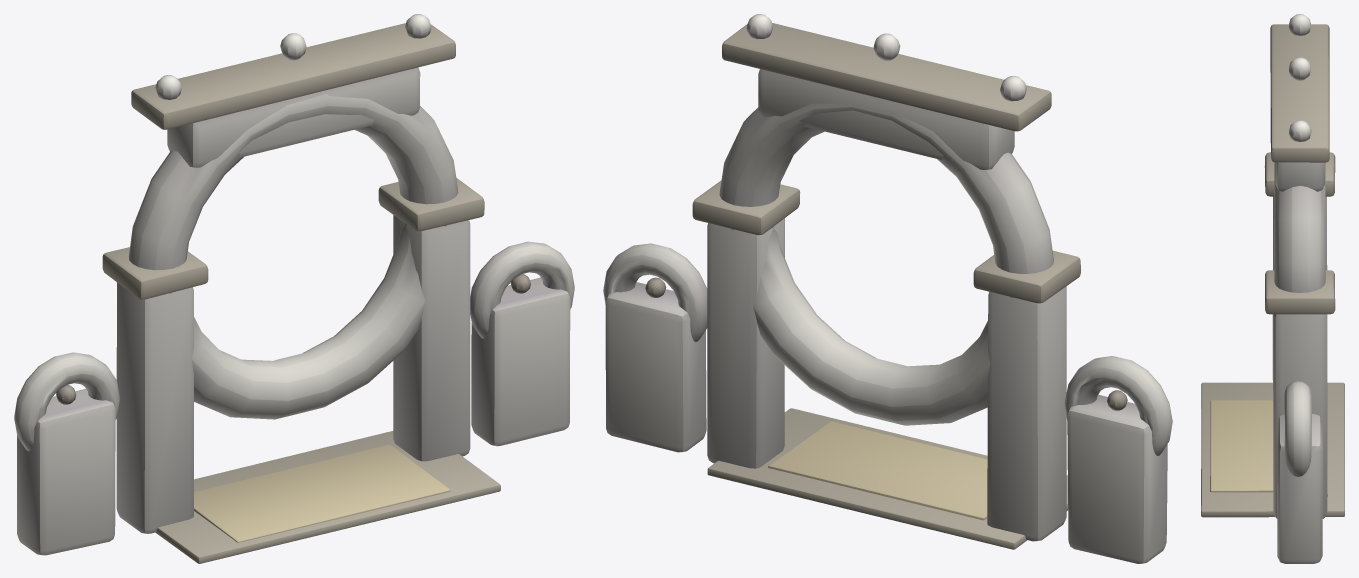
The picture shows the model from 3 angles, left to right: view 1: azimuth 30°, elevation 25°; view 2: azimuth 150°, elevation 25°; view 3: azimuth 270°, elevation 25°; orthographic projection. The views are drawn at different scales.
Parts seen in each view (by area): view 1: gate_e702c997; view 2: gate_e702c997; view 3: gate_e702c997.
Boxes of the visible parts, x1=… form: gate_e702c997: x1=14, y1=14, x2=574, y2=563; gate_e702c997: x1=603, y1=14, x2=1172, y2=563; gate_e702c997: x1=1201, y1=14, x2=1344, y2=563.
Bounding box in the file's own units: 6.25 × 4.86 × 1.6.
